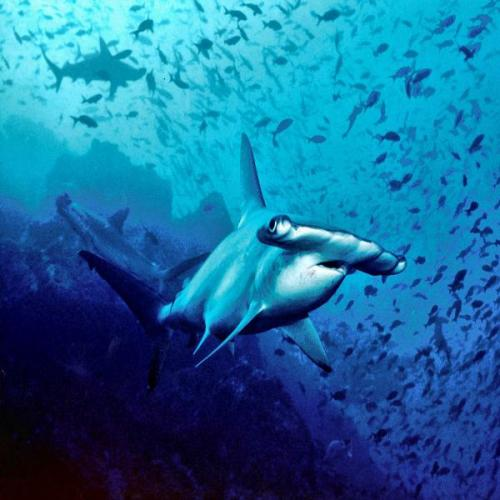shark-endangered: (83, 132, 408, 404), (40, 34, 150, 95)
